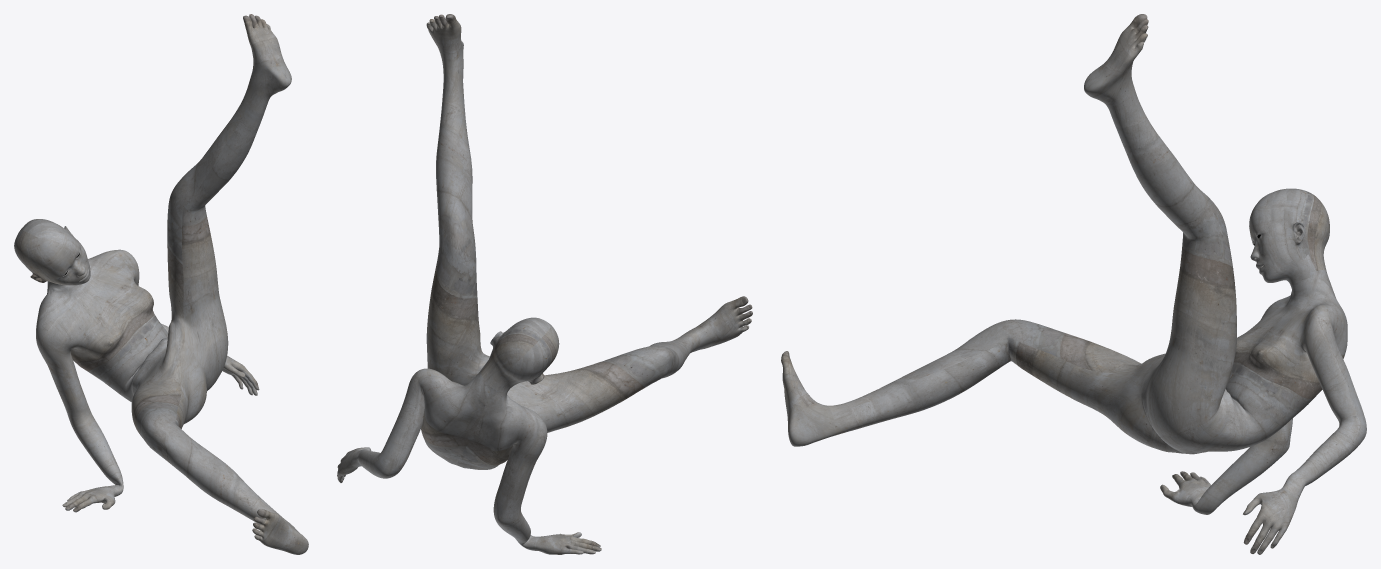
Rendered from real.glb.
3 renders of one model, left to right at view 1: azimuth 30°, elevation 25°; view 2: azimuth 150°, elevation 25°; view 3: azimuth 270°, elevation 25°, orthographic. The views are drawn at different scales.
Visible parts, largest first — view 1: asian; view 2: asian; view 3: asian.
Boxes of the visible parts, x1,y1,x2,y2 form: asian: (14, 14, 308, 554); asian: (337, 14, 752, 554); asian: (781, 14, 1366, 554).
Bounding box in the file's own units: 0.5867 × 1.2 × 1.13.
2 materials, 1 textured.
